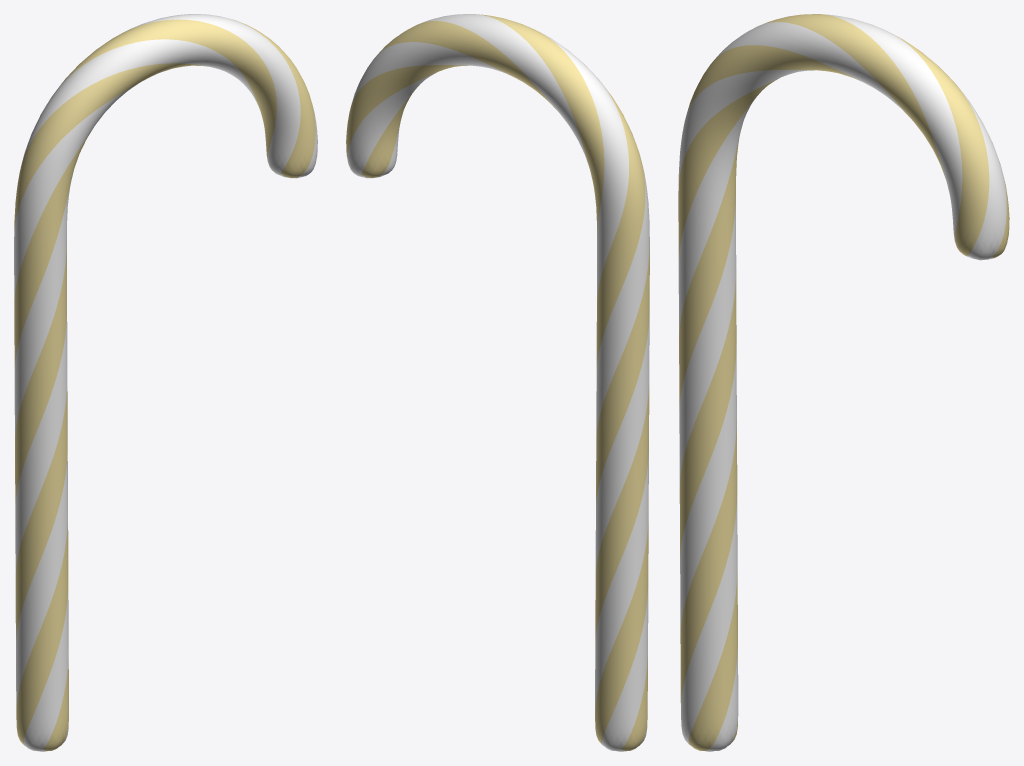
Rendered from yellowcandycane.gltf.
3 views of the same model, side by side, from view 1: azimuth 30°, elevation 25°; view 2: azimuth 150°, elevation 25°; view 3: azimuth 330°, elevation 25° (orthographic). The views are drawn at different scales.
Parts seen in each view (by area): view 1: Circle.001; view 2: Circle.001; view 3: Circle.001.
Part boxes in pixels (x1,y1,x2,y2): Circle.001: [14, 14, 317, 751]; Circle.001: [346, 14, 649, 751]; Circle.001: [678, 14, 1009, 751].
Size of the model in its own units: 2.34 by 5.25 by 0.3596.
